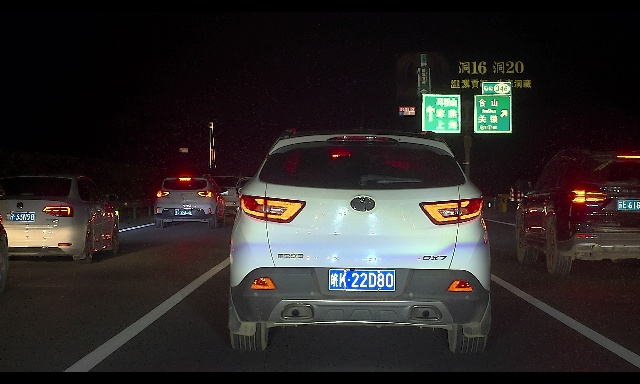car: (227, 127, 492, 353), (514, 148, 640, 276), (0, 174, 119, 265), (154, 175, 228, 229), (200, 174, 246, 215), (0, 218, 8, 293)
